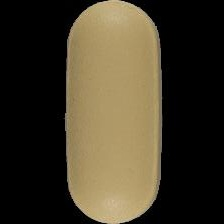11528-010: (0, 0, 224, 224)
